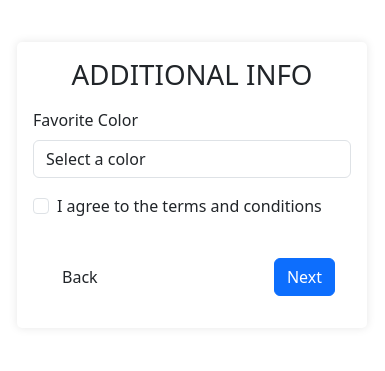
Test case: MoreInfoForm Component › displays validation errors for empty fields
Click the button "Next". click: (304, 277)
box: [274,258,335,296]
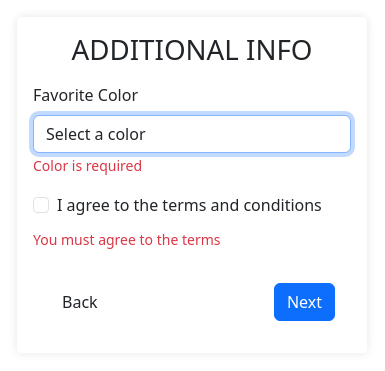
Expected: the text "Color is required" is shown, [33,156,142,175]
Expected: the text "You must agree to the terms" is shown, [33,230,220,249]
